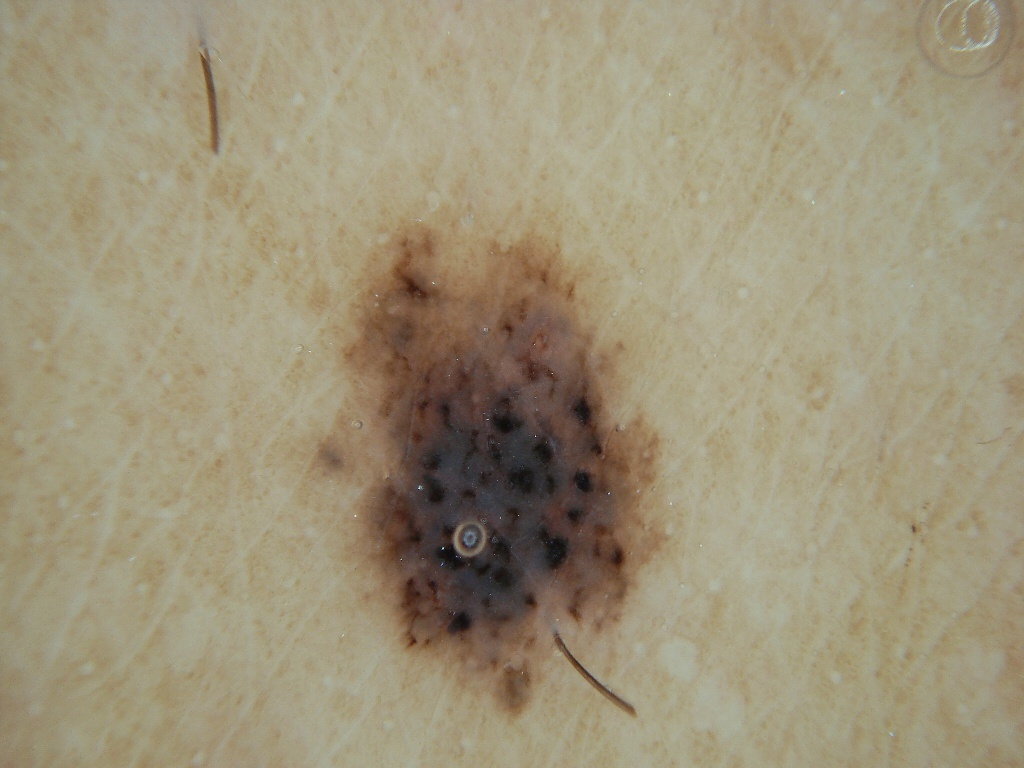Detected Lesion: (312, 213, 671, 726)
